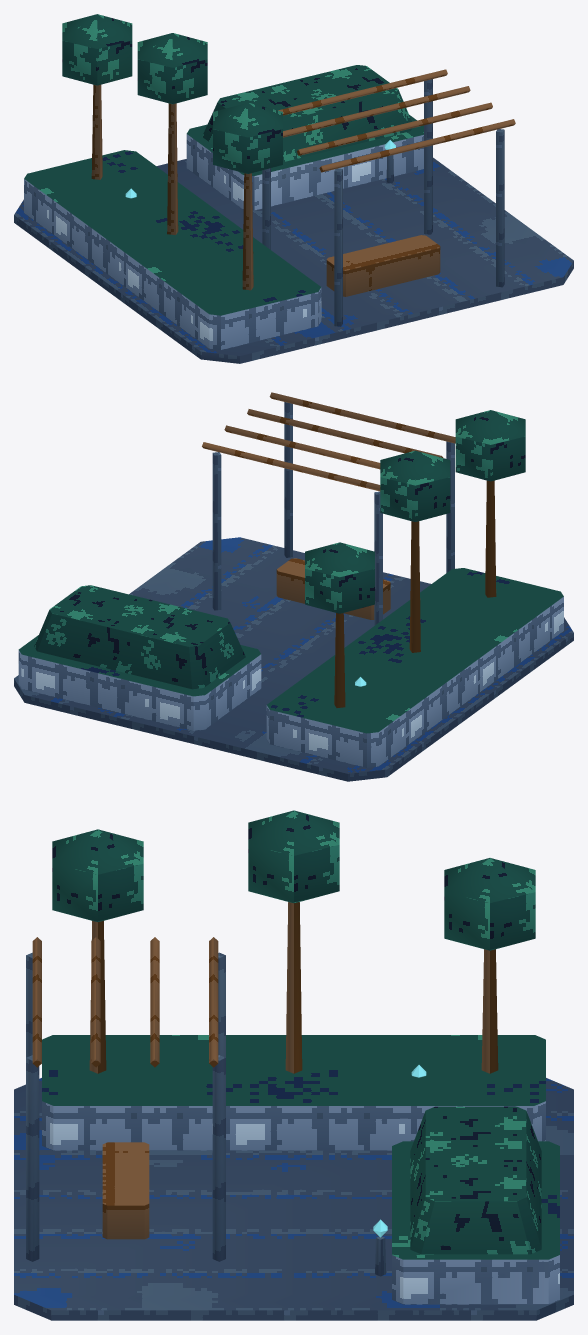
The model's file is cytower.garden.glb.
3 renders of one model, top to bottom at view 1: azimuth 30°, elevation 25°; view 2: azimuth 150°, elevation 25°; view 3: azimuth 270°, elevation 25°, orthographic. The views are drawn at different scales.
Visible parts, largest first — view 1: kit_beds, kit_plants, kit_pergola; view 2: kit_beds, kit_plants, kit_pergola; view 3: kit_beds, kit_plants, kit_pergola.
Boxes of the visible parts, left/top/right/bottom form: kit_beds: left=14, top=114, right=573, bottom=363; kit_plants: left=62, top=14, right=412, bottom=290; kit_pergola: left=125, top=69, right=515, bottom=326; kit_beds: left=14, top=537, right=573, bottom=781; kit_plants: left=34, top=410, right=525, bottom=707; kit_pergola: left=202, top=392, right=455, bottom=686; kit_beds: left=14, top=1035, right=573, bottom=1320; kit_plants: left=52, top=810, right=541, bottom=1254; kit_pergola: left=26, top=937, right=426, bottom=1276.
Bounding box in the file's own units: 6 × 3.72 × 6.
9 materials, 9 textured.
